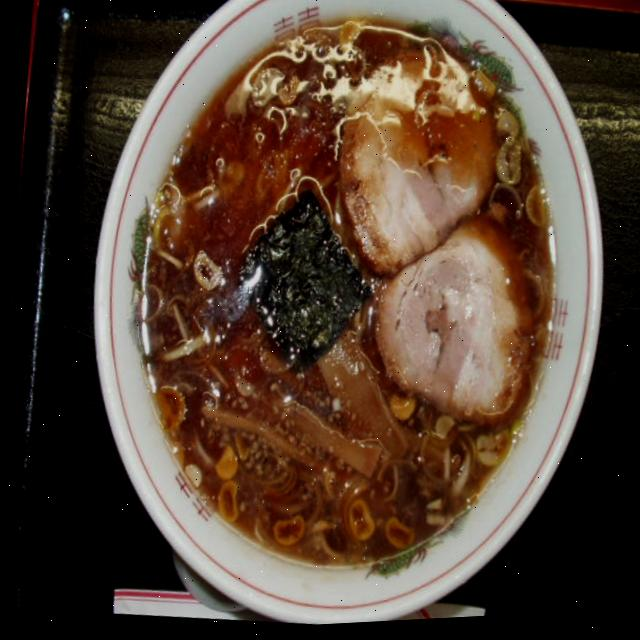面条主食: (39, 0, 640, 638)
